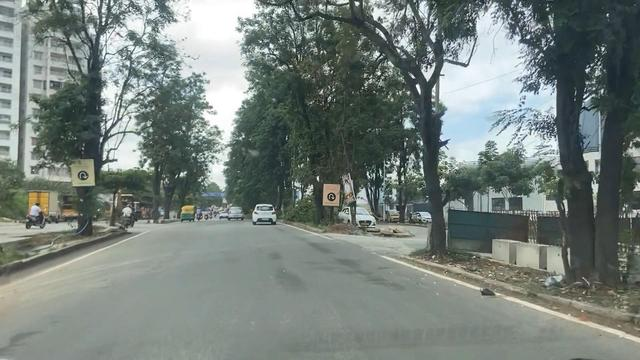LMV: (254, 203, 276, 225), (179, 205, 196, 221), (230, 207, 244, 220)
RoadDamages: (313, 238, 368, 292), (1, 317, 39, 352), (269, 249, 300, 291), (377, 269, 403, 295)
